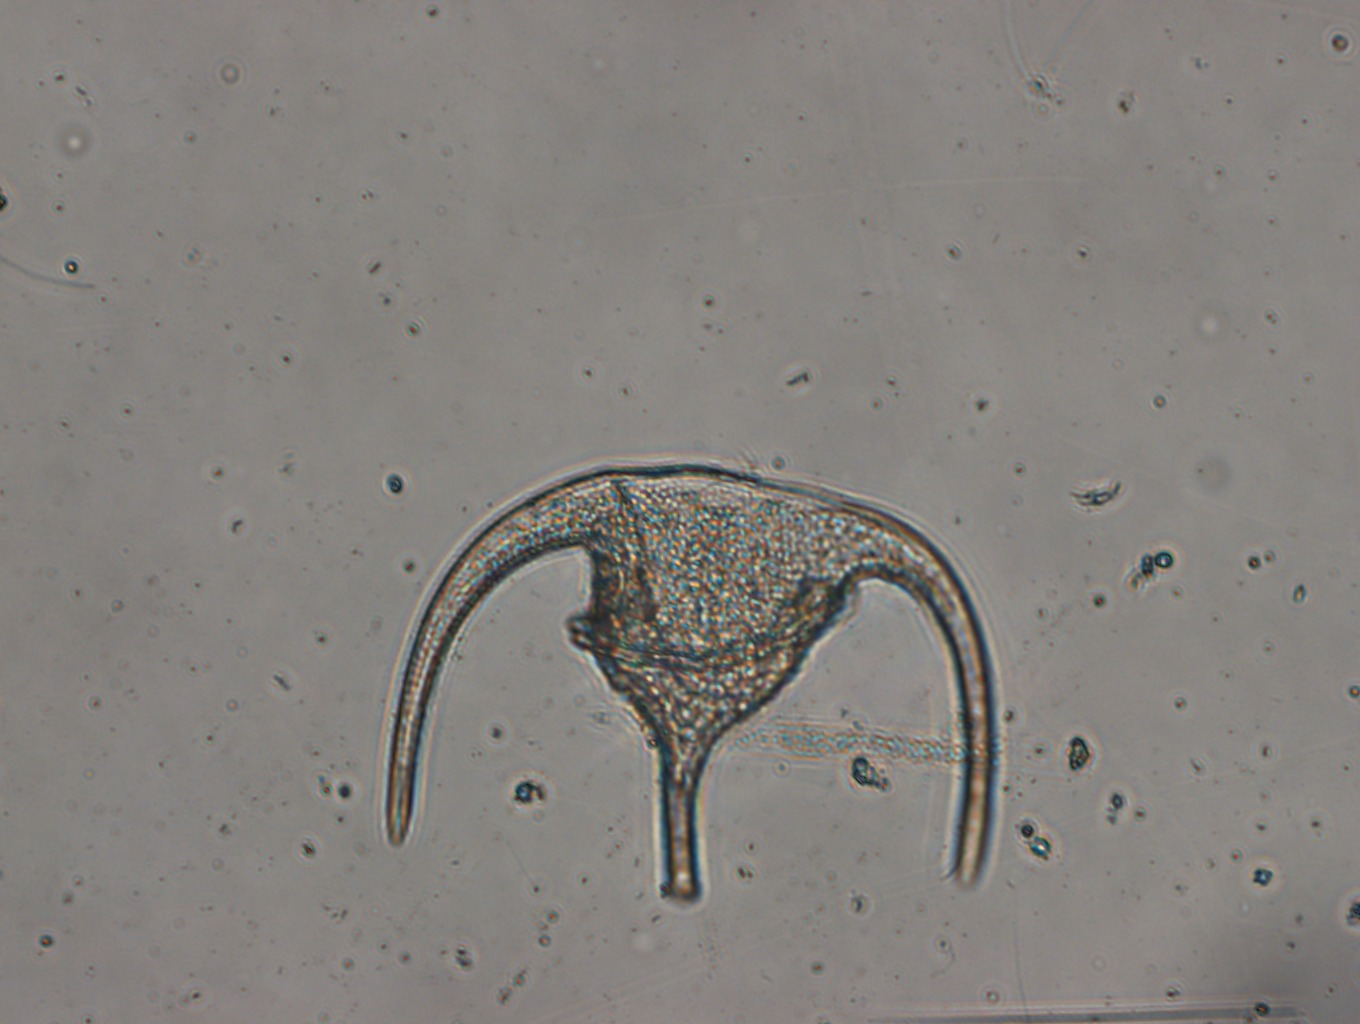ceratium tripos: (363, 447, 1028, 913)
